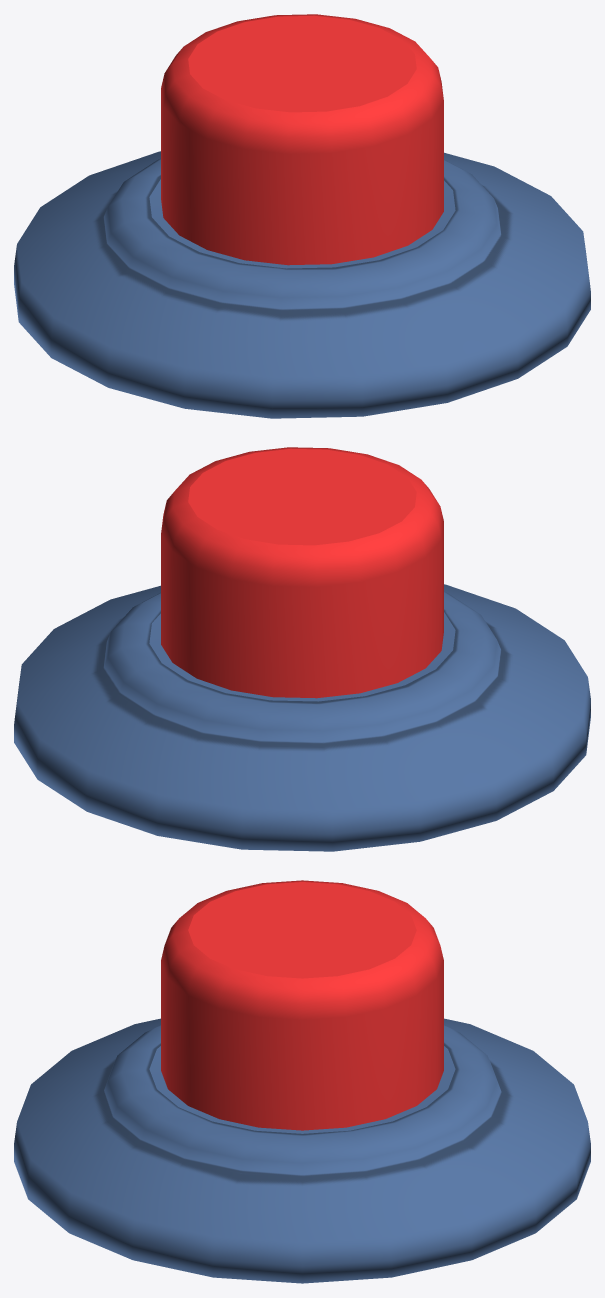
Rendered from Button.fbx.
3 renders of one model, top to bottom at view 1: azimuth 30°, elevation 25°; view 2: azimuth 150°, elevation 25°; view 3: azimuth 270°, elevation 25°, orthographic.
Parts seen in each view (by area): view 1: pCylinder1, pCylinder2; view 2: pCylinder1, pCylinder2; view 3: pCylinder1, pCylinder2.
Part boxes in pixels (bbox=[...]): pCylinder1: bbox=[14, 151, 590, 418]; pCylinder2: bbox=[161, 14, 443, 265]; pCylinder1: bbox=[14, 584, 590, 851]; pCylinder2: bbox=[161, 447, 443, 698]; pCylinder1: bbox=[14, 1018, 590, 1283]; pCylinder2: bbox=[161, 880, 443, 1130].
Bounding box in the file's own units: 4.08 × 1.8 × 4.08.
